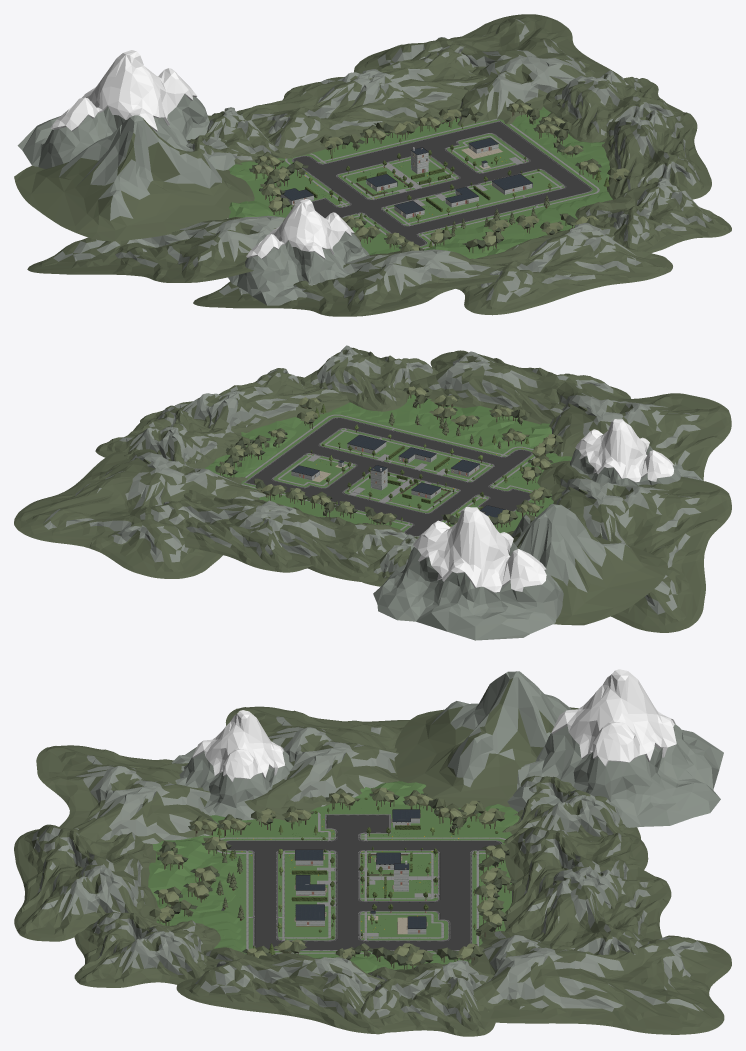
Rendered from mini_town.glb.
3 views of the same model, one above another, from view 1: azimuth 30°, elevation 25°; view 2: azimuth 150°, elevation 25°; view 3: azimuth 270°, elevation 25° (orthographic). The views are drawn at different scales.
Visible parts, largest first — view 1: Object_21, Object_19, Object_20, Object_40, Object_18, Object_16, Object_14, Object_17, Object_22, Object_28, Object_24, Object_10 (+13 smaller); view 2: Object_21, Object_18, Object_19, Object_40, Object_20, Object_16, Object_14, Object_17, Object_22, Object_10, Object_28, Object_33 (+11 smaller); view 3: Object_21, Object_19, Object_20, Object_40, Object_18, Object_16, Object_14, Object_17, Object_10, Object_28, Object_22, Object_24 (+12 smaller).
Boxes of the visible parts, x1,y1,x2,y2 form: Object_21: (27,14,711,316); Object_19: (14,115,369,305); Object_20: (186,70,731,252); Object_40: (264,118,608,250); Object_18: (17,50,507,228); Object_16: (249,106,629,251); Object_14: (228,107,577,258); Object_17: (259,99,583,252); Object_22: (427,141,612,236); Object_28: (246,137,606,223); Object_24: (340,126,480,235); Object_10: (274,146,607,253); Object_21: (14,350,731,632); Object_18: (373,434,563,640); Object_19: (507,419,702,625); Object_40: (246,413,543,535); Object_20: (95,345,438,586); Object_16: (254,383,563,527); Object_14: (205,394,572,516); Object_17: (215,404,527,528); Object_22: (241,400,501,475); Object_10: (273,412,554,515); Object_28: (281,414,536,532); Object_33: (291,434,505,517); Object_21: (14,706,731,1034); Object_19: (172,671,578,820); Object_20: (74,775,640,1036); Object_40: (221,815,512,958); Object_18: (237,669,723,889); Object_16: (149,787,509,957); Object_14: (148,781,519,969); Object_17: (156,790,516,969); Object_10: (222,797,429,941); Object_28: (286,797,491,958); Object_22: (170,849,377,973); Object_24: (245,823,480,932).
Bounding box in the file's own units: 403 × 84.88 × 349.
Materials: 1 (1 with a texture image).
